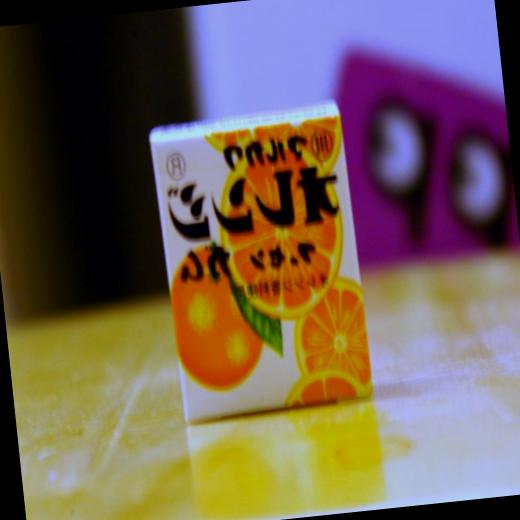Grape: (212, 132, 351, 318), (166, 241, 268, 387), (283, 286, 366, 398), (216, 116, 346, 177)
